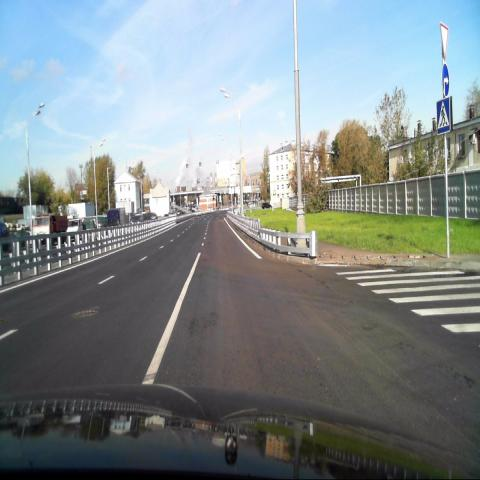4_1_2: (440, 62, 452, 96)
